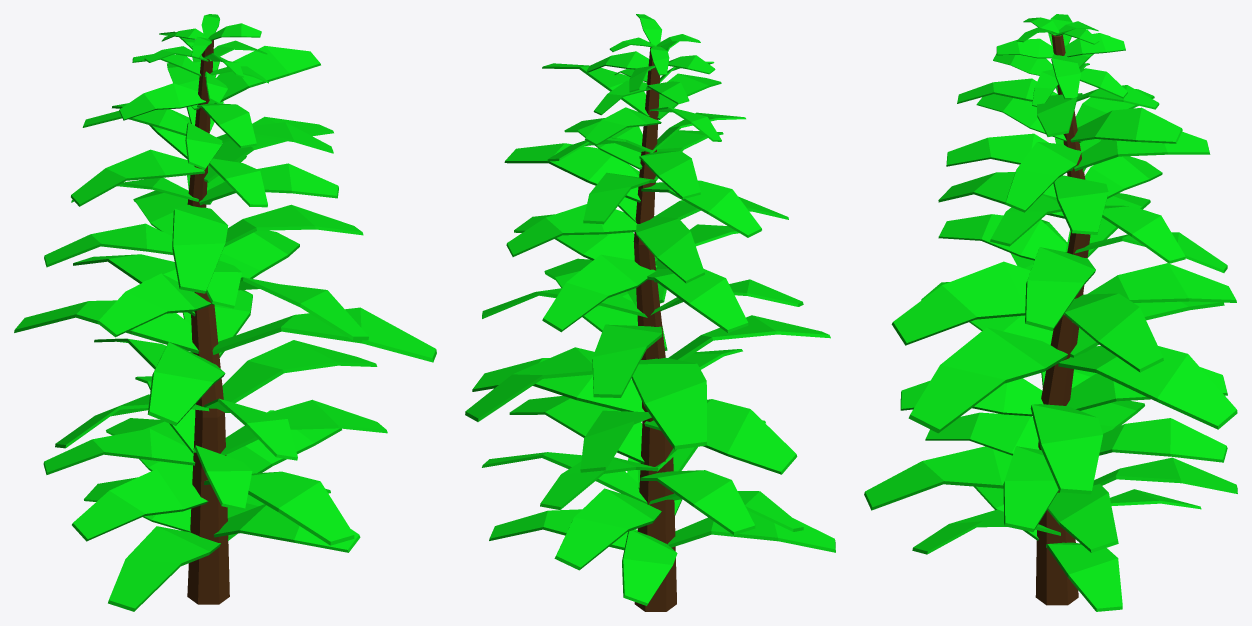
File: ficus_tree.fbx
The picture shows the model from 3 angles, left to right: view 1: azimuth 30°, elevation 25°; view 2: azimuth 150°, elevation 25°; view 3: azimuth 270°, elevation 25°; orthographic projection.
Visible parts, largest first — view 1: Cylinder.006; view 2: Cylinder.006; view 3: Cylinder.006.
Boxes of the visible parts, bbox=[...] form: Cylinder.006: bbox=[14, 14, 436, 611]; Cylinder.006: bbox=[465, 14, 835, 611]; Cylinder.006: bbox=[864, 14, 1237, 611].
Size of the model in its own units: 111 by 114 by 194.
